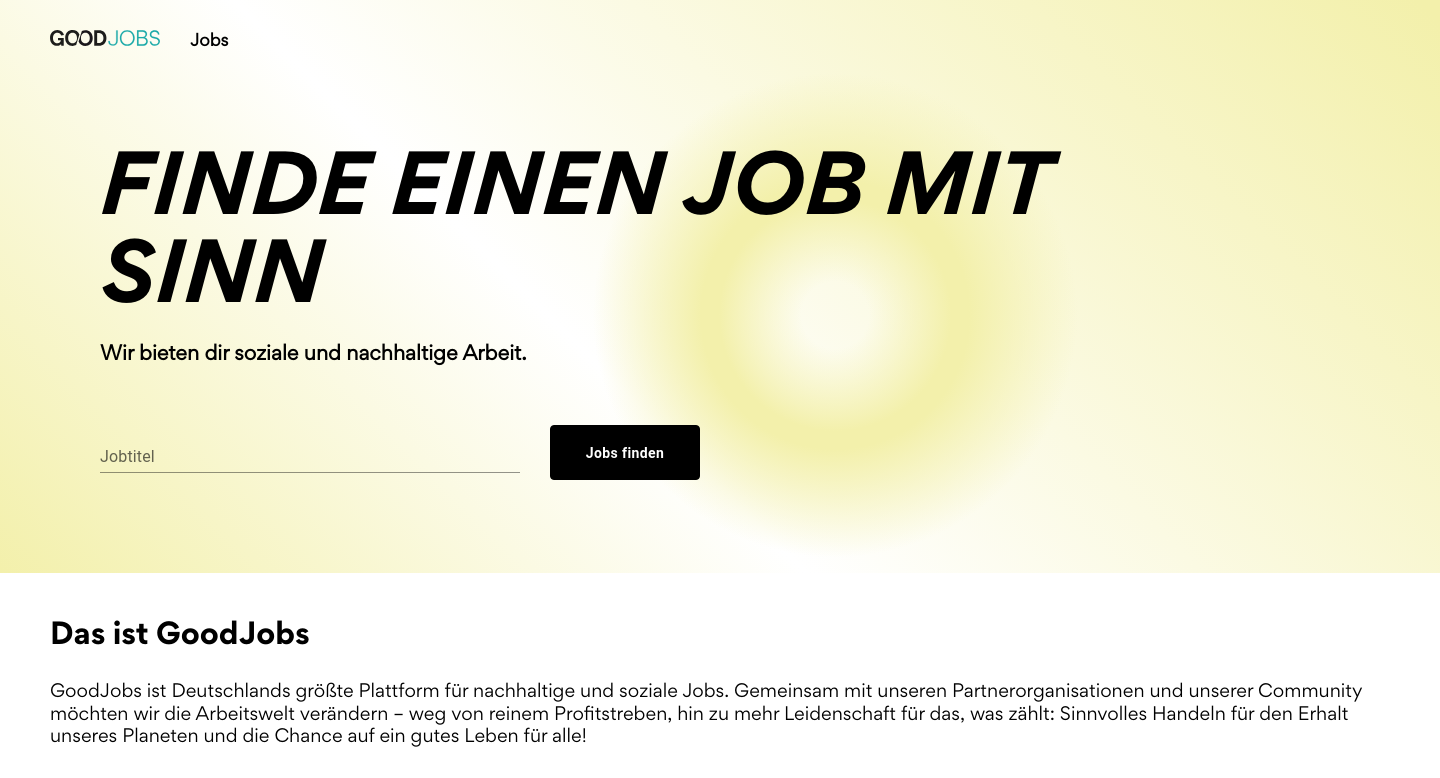
Test case: Navigates to jobsPpage and displays jobs, related to empty input
What coordinates should you click on to do the following:
click the button
I would click on:
 (625, 453)
Its box is [550,425,700,480].
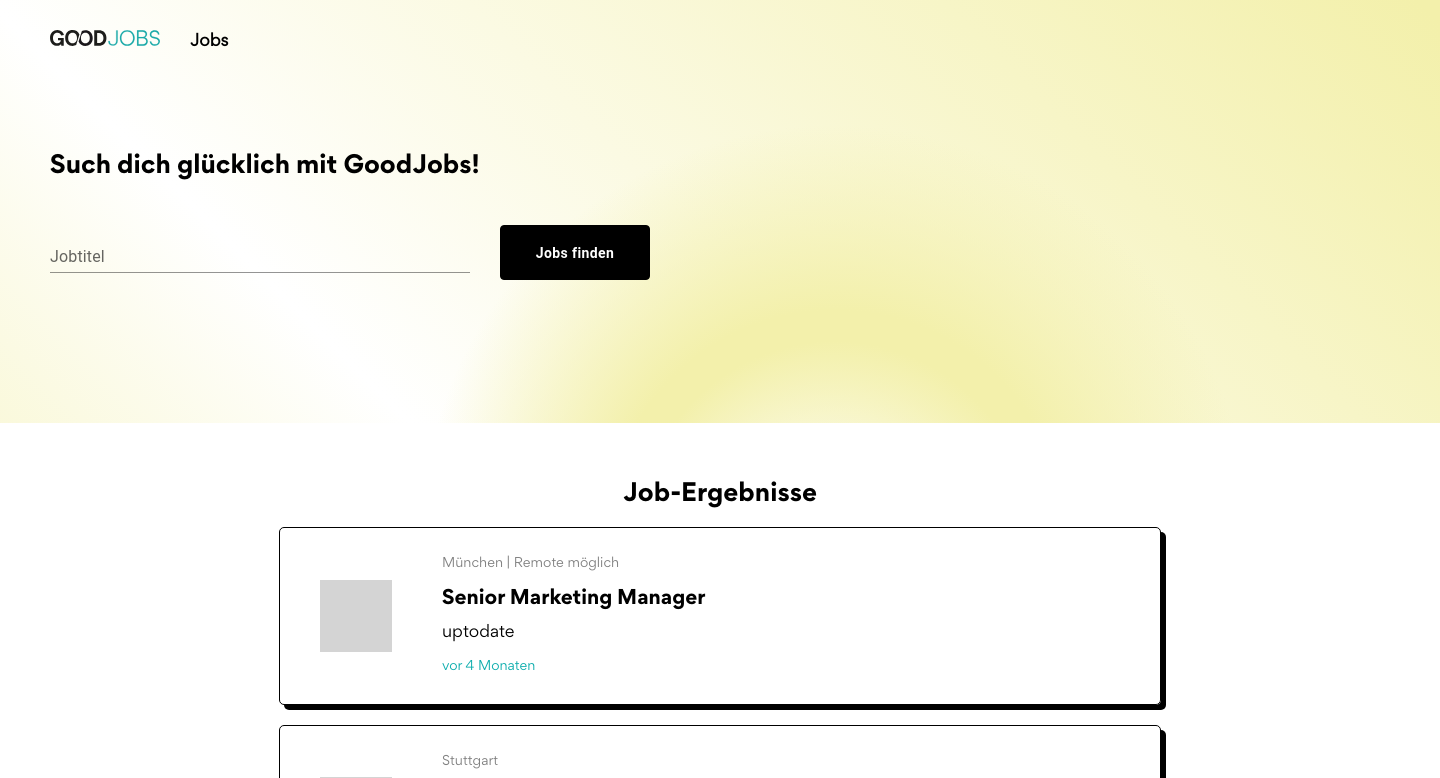
Result: the heading "Such dich glücklich mit GoodJobs!" is shown at [50,155,480,179]
